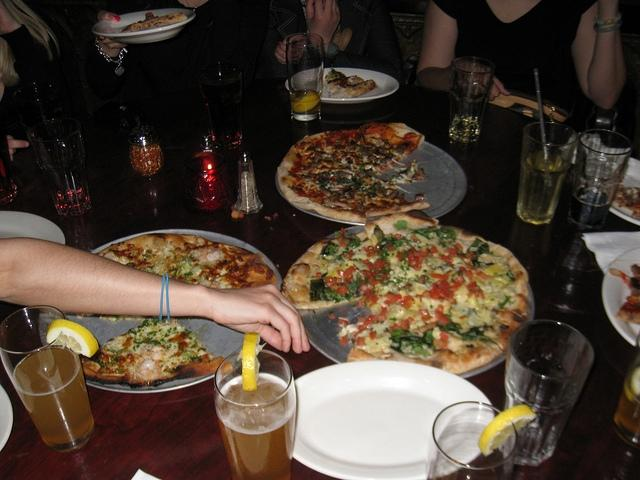hot pepper: (130, 141, 163, 176)
lemon: (478, 405, 538, 457), (46, 319, 99, 359), (237, 332, 267, 392), (624, 364, 640, 406), (292, 91, 320, 112)
